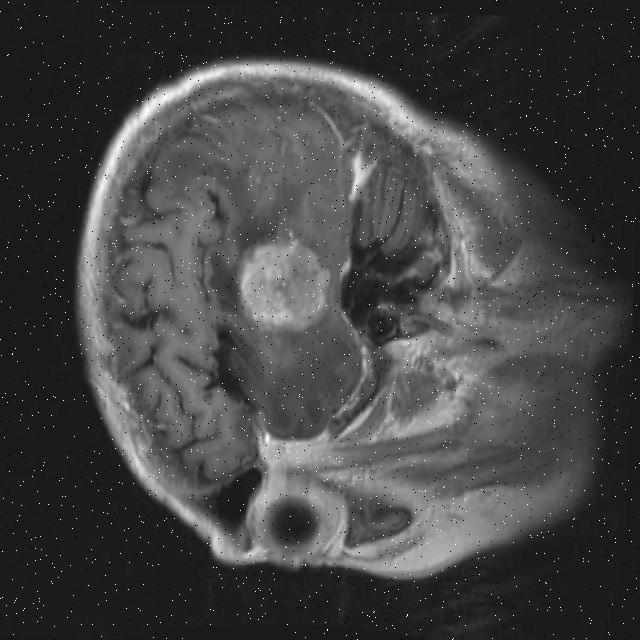Meningioma: (234, 233, 333, 337)
